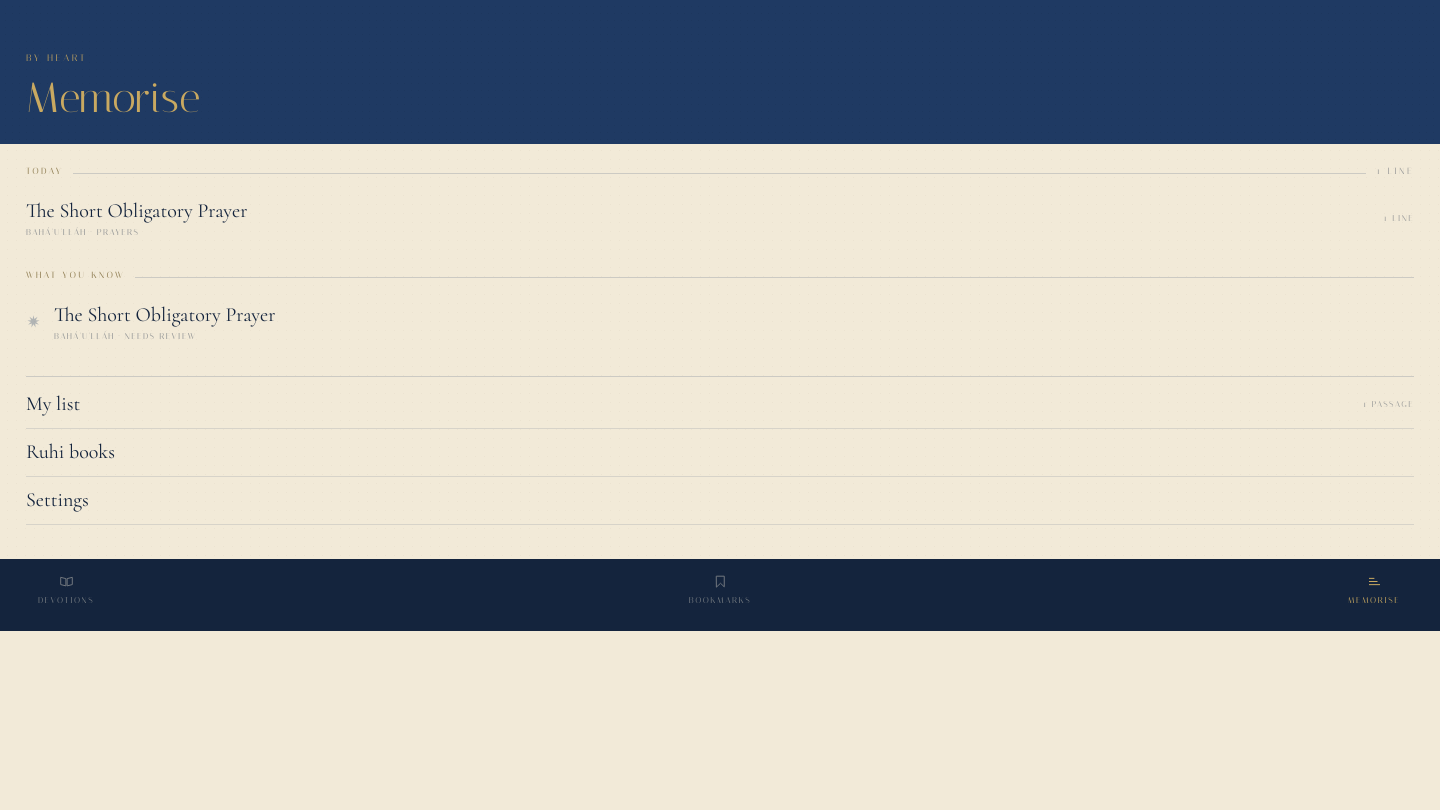
Test: level 1, a line you have not met › shows the line whole and asks for the rating straight away
expect the heading "Memorise" is shown: met, box [26,73,201,123]
Click the link "The Short Obligatory Prayer BAHÁ'U'LLÁH · PRAYERS 1 LINE" at (137, 211), box [26,188,1414,248]
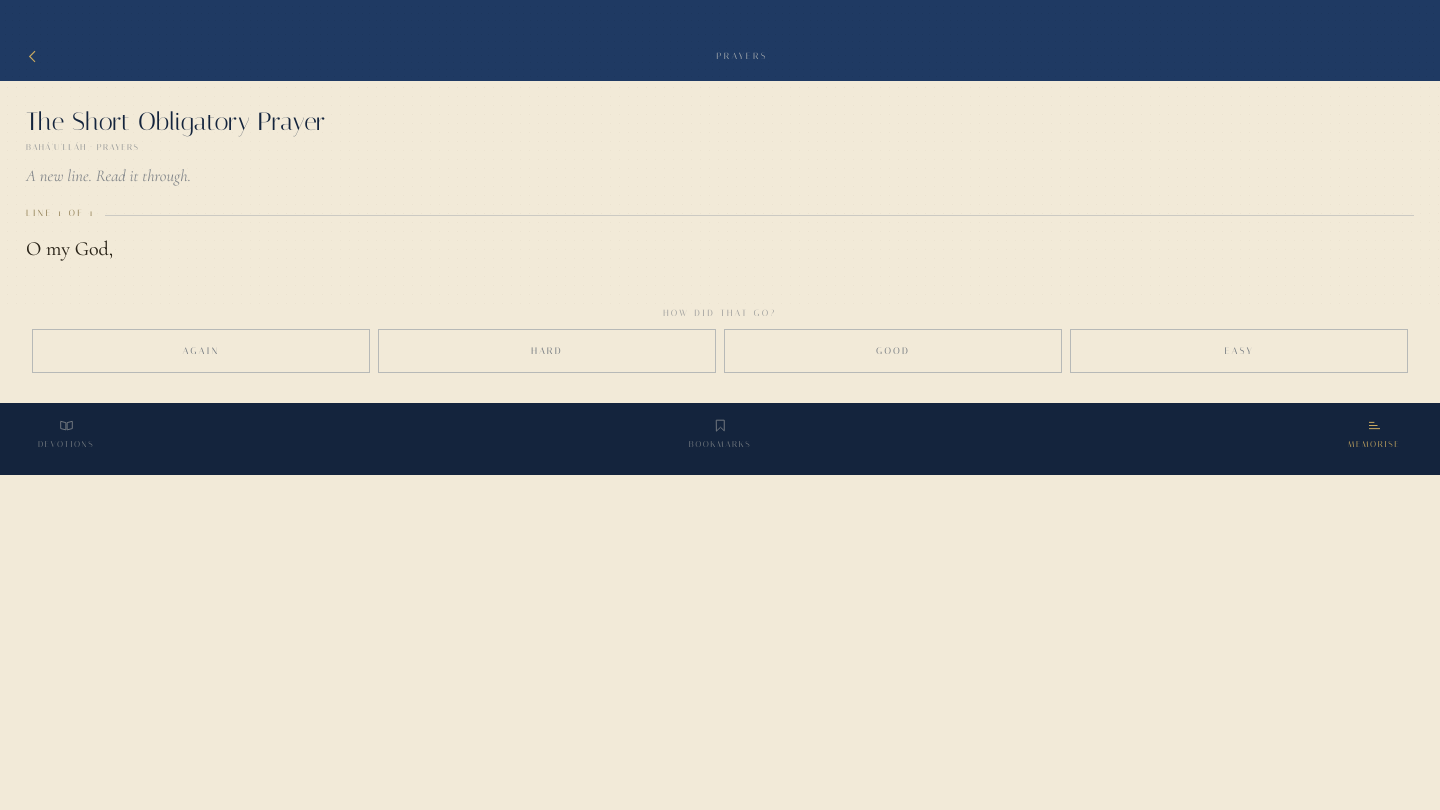
expect the text named "The line" reads "O my God,": met, box [26,237,113,261]
expect the text "A new line. Read it through." is shown: met, box [26,166,191,186]
expect the element "HOW DID THAT GO?" is shown: met, box [32,308,1408,373]
